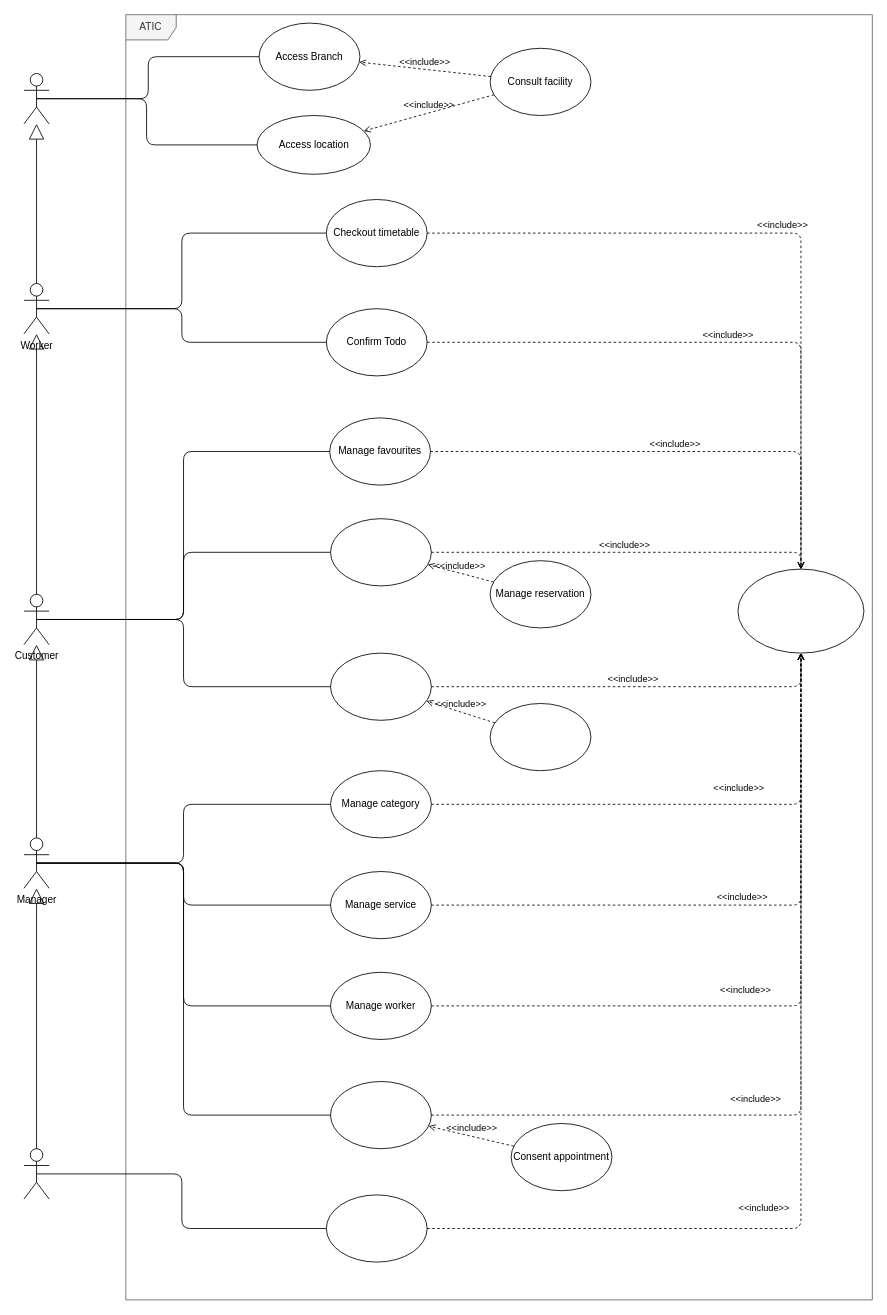
The diagram is 887 pixels wide and 1315 high, and some of its shapes have lost their labels. Each missing label, with the box of its shape:
Authenticate: (737, 568, 864, 653)
Make appointment: (330, 518, 431, 586)
Manage Facilities: (326, 1194, 427, 1262)
Manage Rating: (489, 703, 591, 771)
Manage reservations: (330, 1081, 431, 1149)
Owner: (23, 1148, 49, 1199)
Rate Worker: (330, 652, 431, 720)
User: (23, 73, 49, 124)
